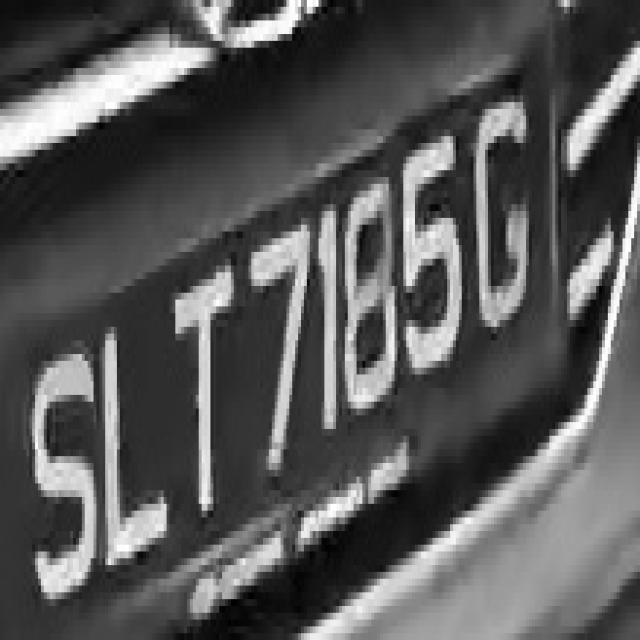1: (301, 177, 339, 490)
5: (388, 109, 468, 388)
7: (237, 218, 310, 490)
8: (331, 184, 404, 429)
G: (468, 95, 534, 348)
L: (88, 300, 172, 586)
S: (20, 334, 100, 626)
T: (158, 259, 251, 565)
